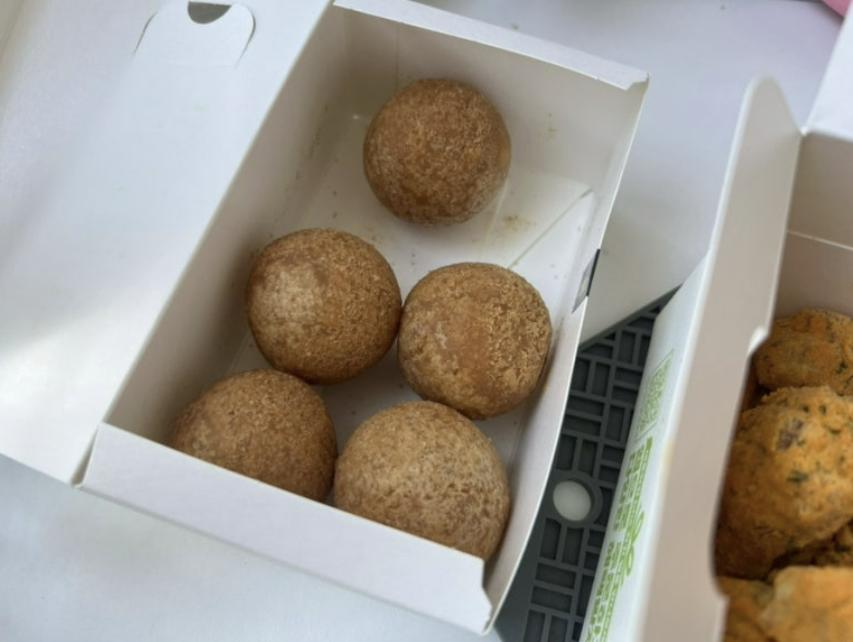Lunch Box: (0, 0, 647, 633), (581, 10, 852, 641)
